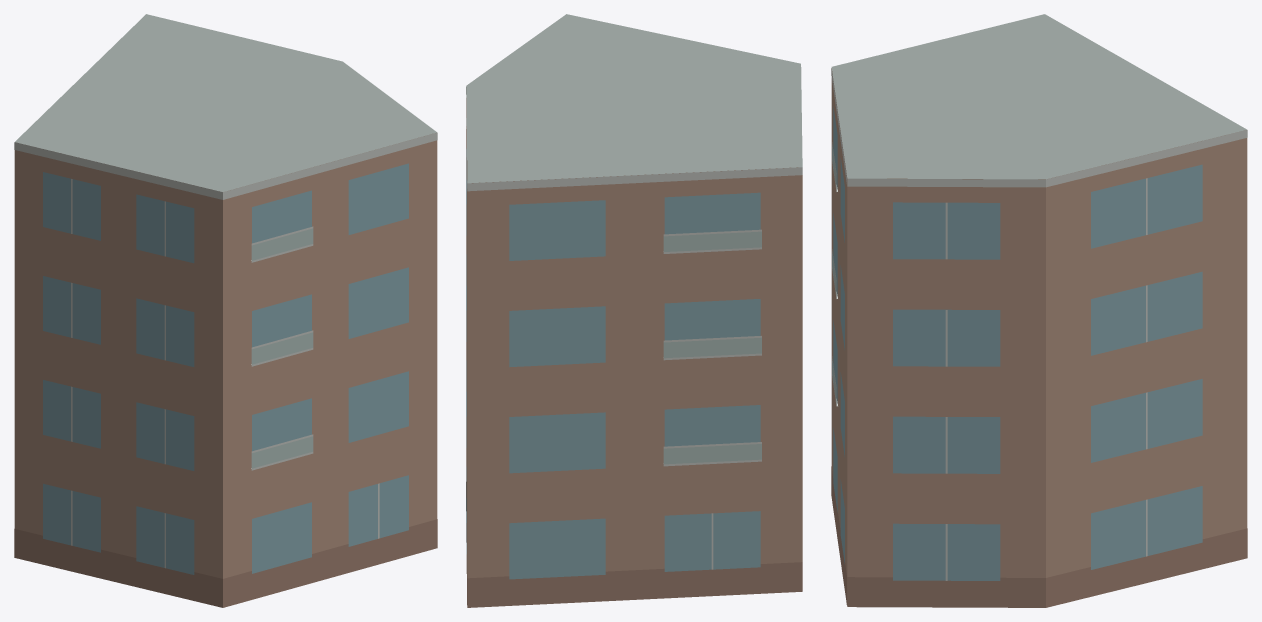
The model's file is survey-upis-32897270.glb.
3 renders of one model, left to right at view 1: azimuth 30°, elevation 25°; view 2: azimuth 150°, elevation 25°; view 3: azimuth 270°, elevation 25°, orthographic. The views are drawn at different scales.
Parts seen in each view (by area): view 1: survey-upis-32897270.tmp; view 2: survey-upis-32897270.tmp; view 3: survey-upis-32897270.tmp.
Boxes of the visible parts, left/top/right/bottom form: survey-upis-32897270.tmp: left=14, top=14, right=437, bottom=607; survey-upis-32897270.tmp: left=466, top=14, right=802, bottom=607; survey-upis-32897270.tmp: left=831, top=14, right=1247, bottom=607.
Bounding box in the file's own units: 10.77 × 13 × 11.45.
